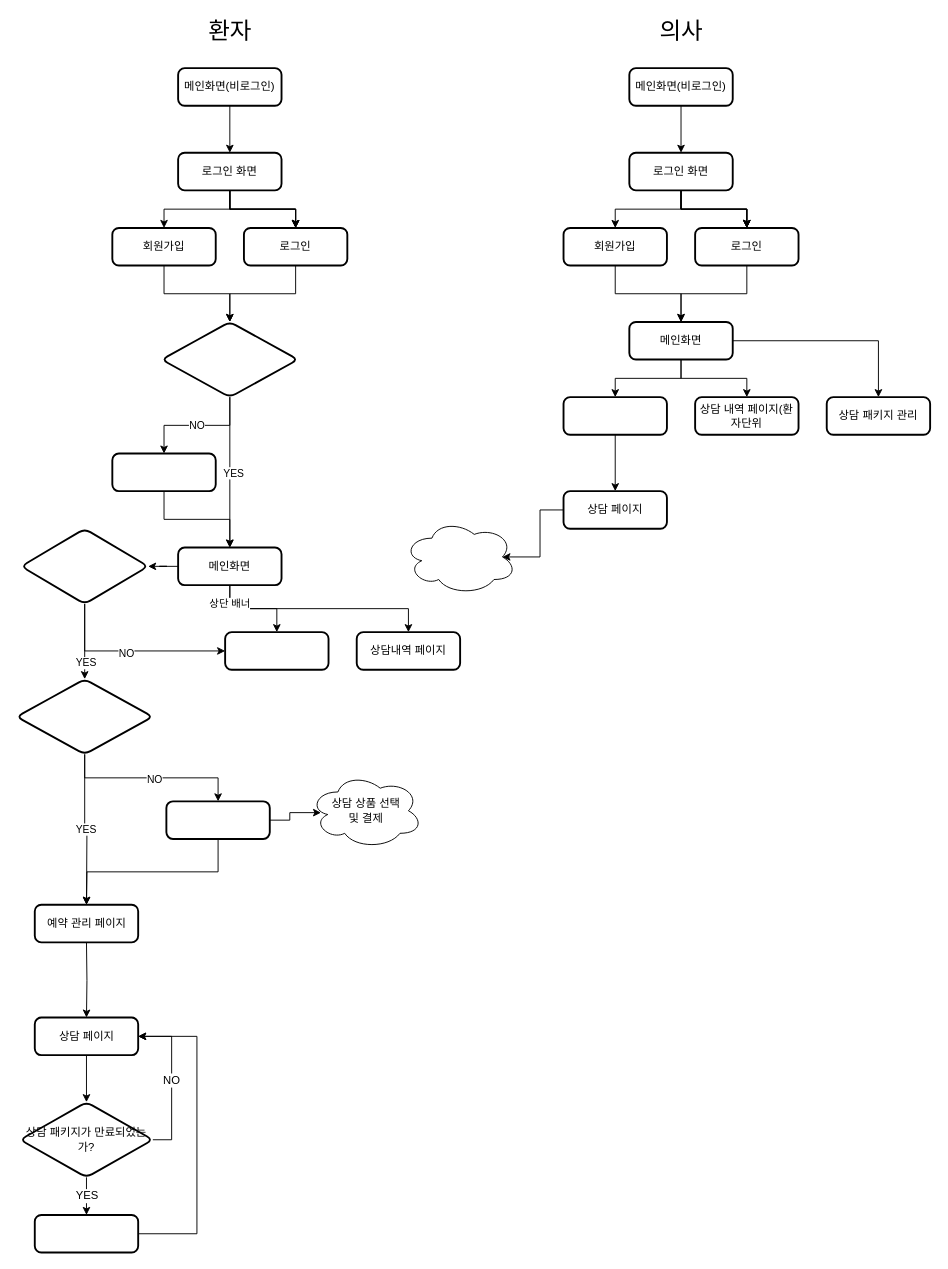
Image size: 948x1269. Some labels were removed from this diagram. The shapes that lost their labels are listed below. From the top down, each one's box as (x1, y1, x2, y2) in pixels, then its label:
(160, 321, 298, 398): 오늘 문답을 했는가?
(562, 396, 667, 435): 일정 캘린더
(111, 452, 216, 492): 일일 문답 페이지
(20, 527, 149, 604): 추가정보를 입력하였는가?
(403, 518, 517, 595): 상담 내역 페이지
(224, 631, 329, 670): 마이페이지
(15, 678, 153, 755): 유효한 상담 패키지를 등록해두었는가?
(165, 800, 270, 839): 의사 선택 페이지
(33, 1214, 139, 1253): 리뷰 작성
